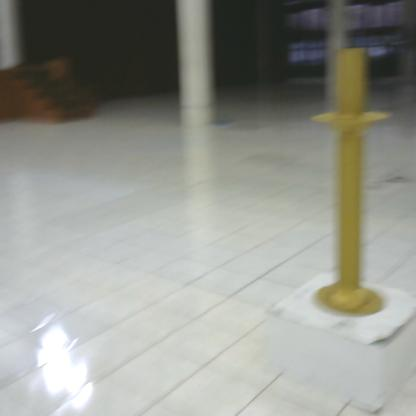pole: (306, 42, 395, 325)
